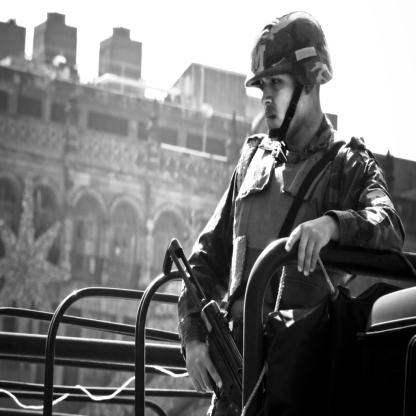Helmet: (244, 17, 338, 134)
